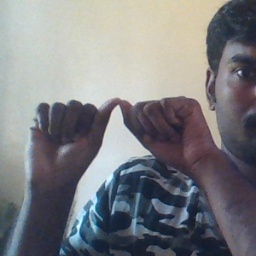A: (31, 97, 213, 183)
